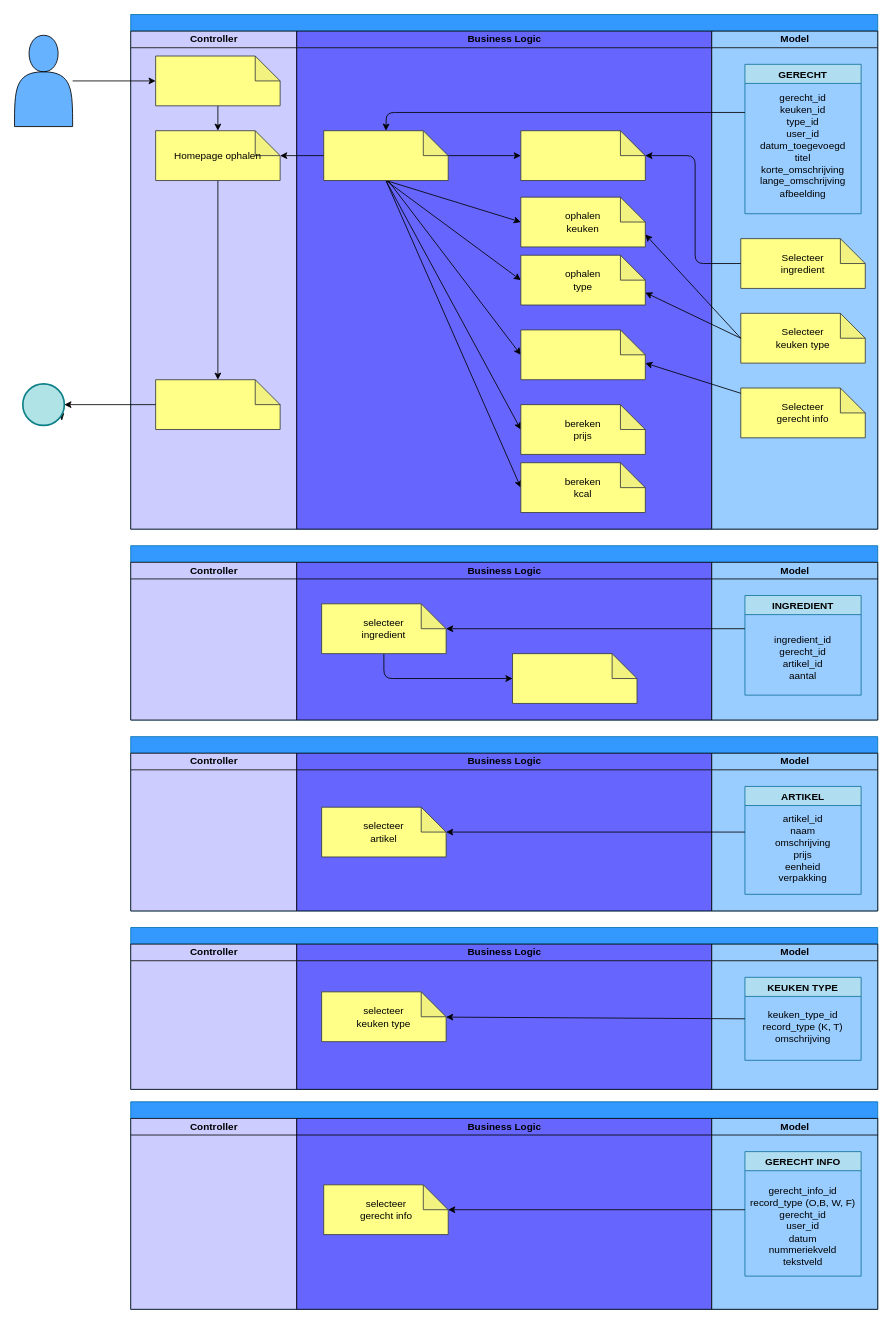
This 892x1324 diagram has some shape labels left out. Each missing label, with the centre of its shape:
"Homepage tonen" goes at [217,404].
"Initialisatie" goes at [217,80].
"ophalen artikel" goes at [574,678].
"ophalen ingredient" goes at [582,155].
"ophalen waardering" goes at [582,354].
"Selecteer gerecht" goes at [385,155].
